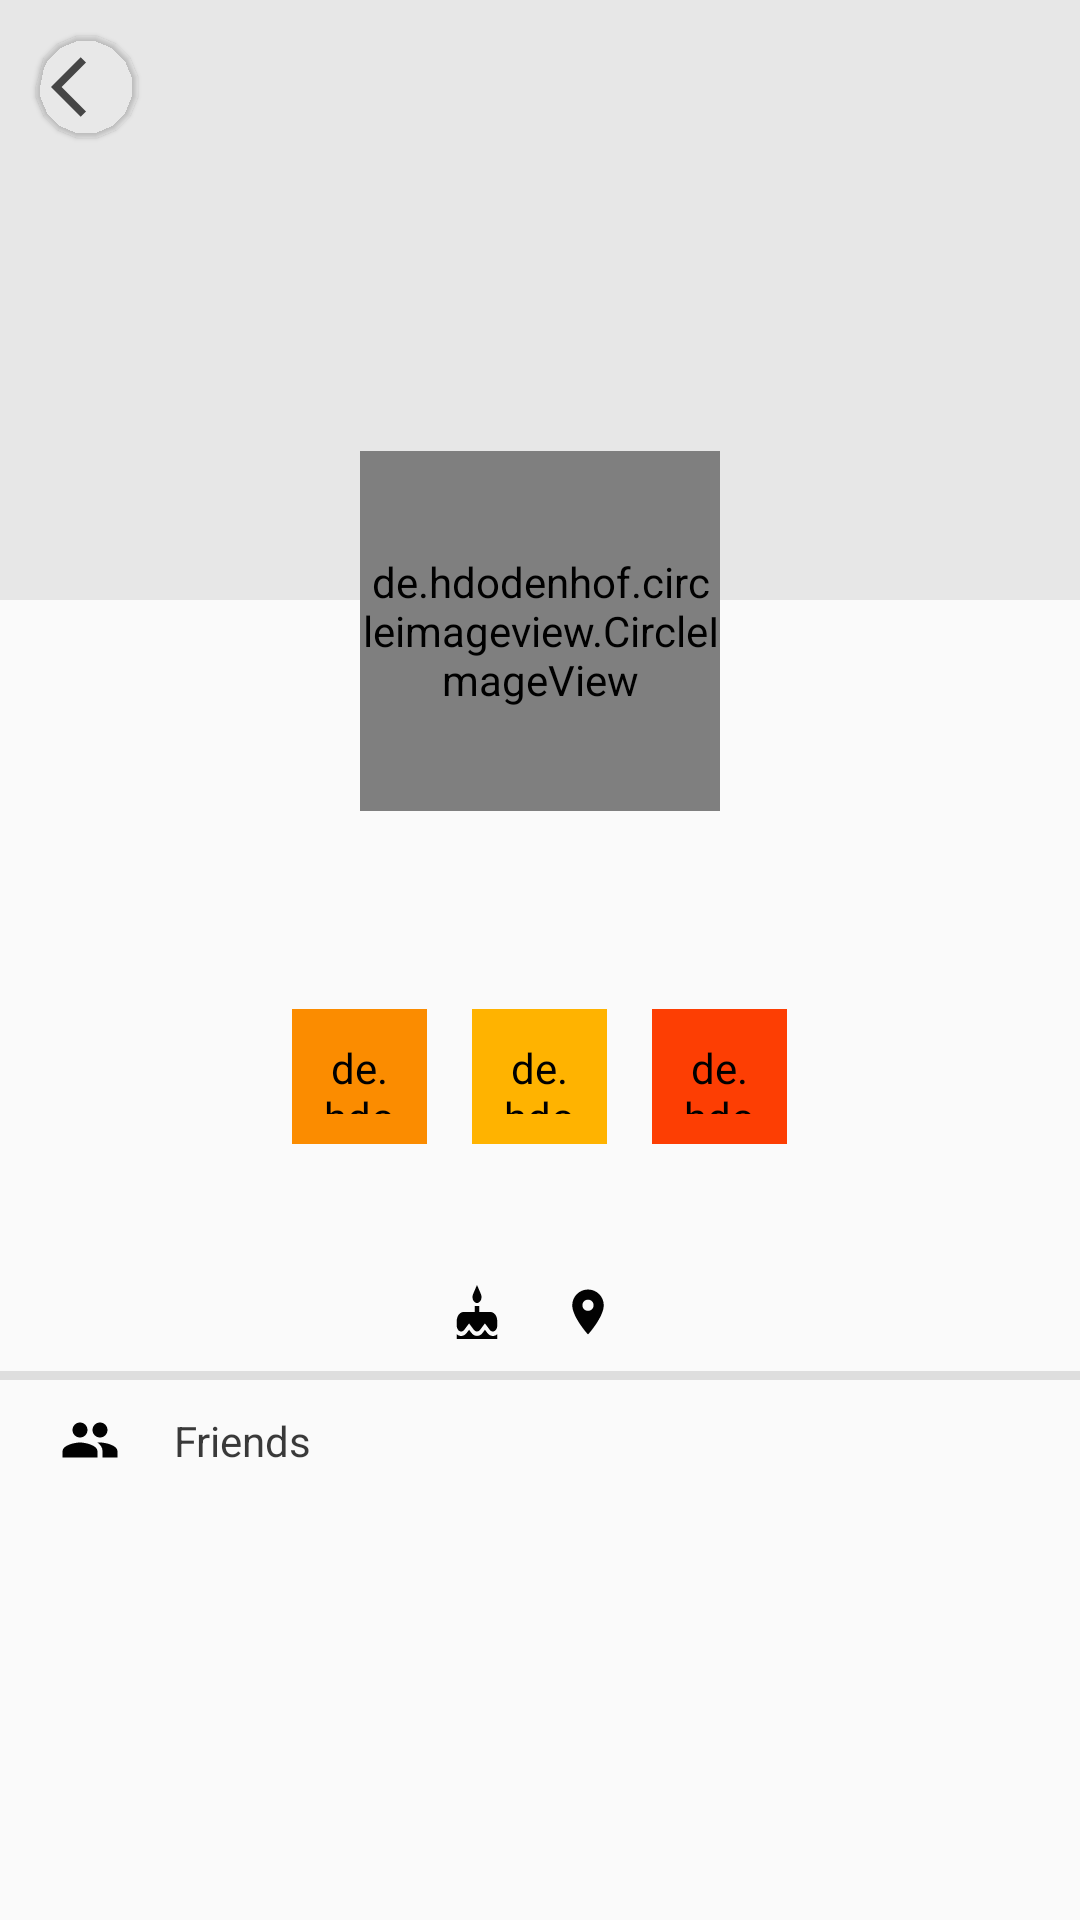

Named icons in this screenshot (1080 × 1920) and their bounding boxes, [x1=x1, y1=y1, x2=x2, y2=y2]:
go back: [x1=36, y1=38, x2=135, y2=138]
people: [x1=62, y1=1422, x2=118, y2=1458]
